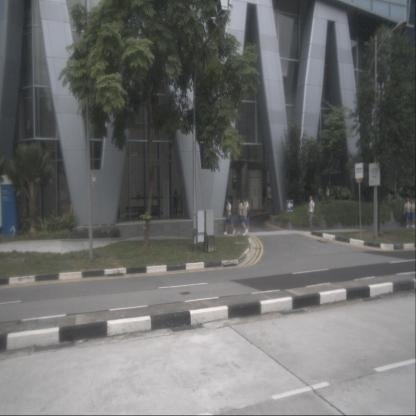human-pedestrian-adult: (224, 198, 235, 235), (242, 197, 249, 236), (308, 196, 315, 234), (404, 197, 412, 228), (237, 197, 243, 234), (244, 196, 249, 234), (173, 189, 178, 217), (262, 185, 267, 212), (411, 199, 415, 228), (268, 184, 272, 212)
